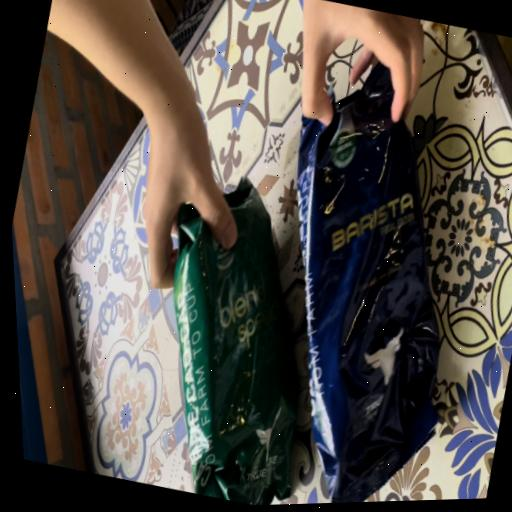cafe_hat: (297, 63, 439, 503)
cafe_xay: (174, 178, 298, 505)
